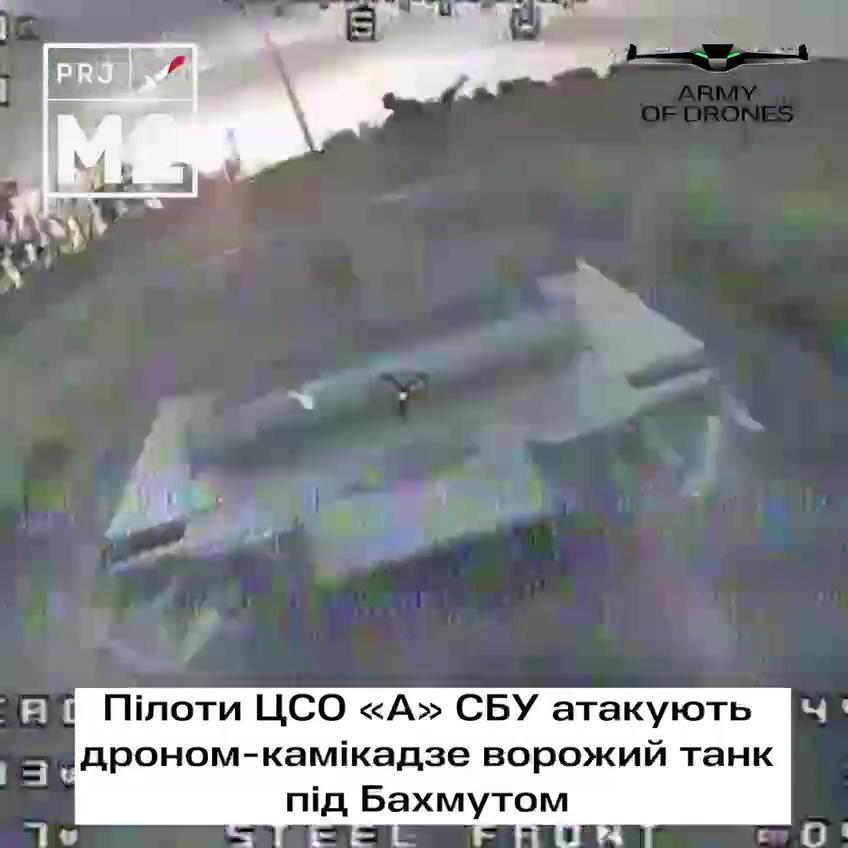tank: (104, 178, 765, 674)
